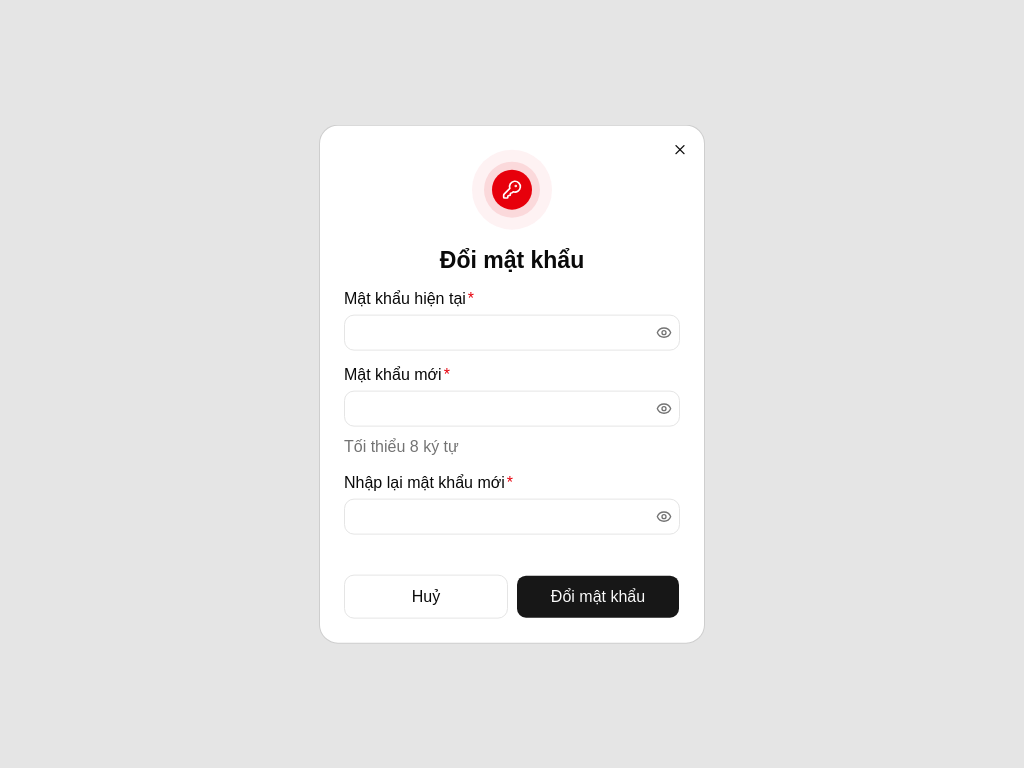
Scenario: ChangePasswordDialog › nhập lại không khớp → báo tại ô, không gọi API
Type "old" into the password field labelled "Mật khẩu hiện tại *" at point(498, 332), box [345, 314, 652, 350]
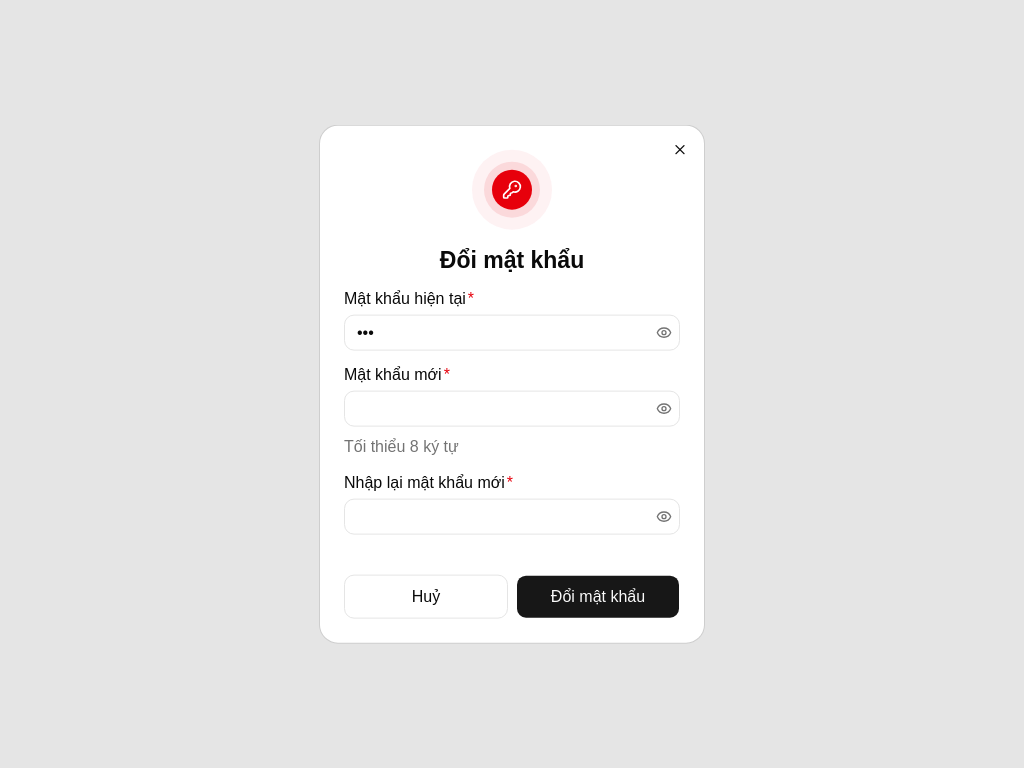
Type "matkhau-1" into the password field labelled "Mật khẩu mới *" at point(498, 408), box [345, 390, 652, 426]
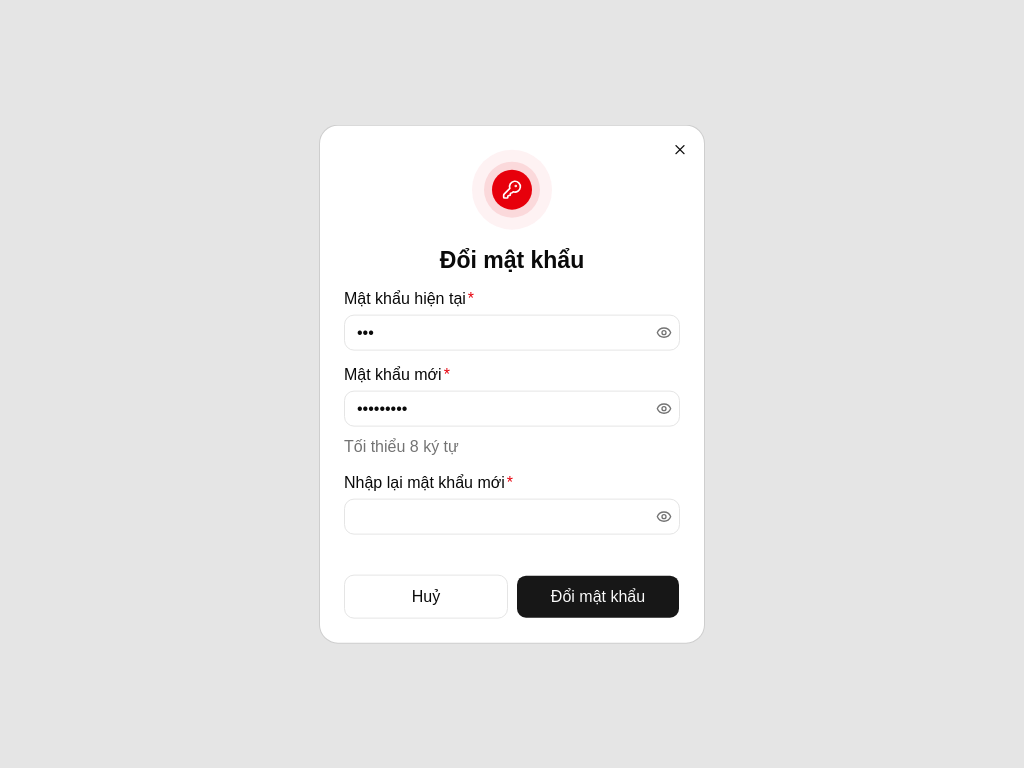
Type "matkhau-2" into the password field labelled "Nhập lại mật khẩu mới *" at point(498, 516), box [345, 498, 652, 534]
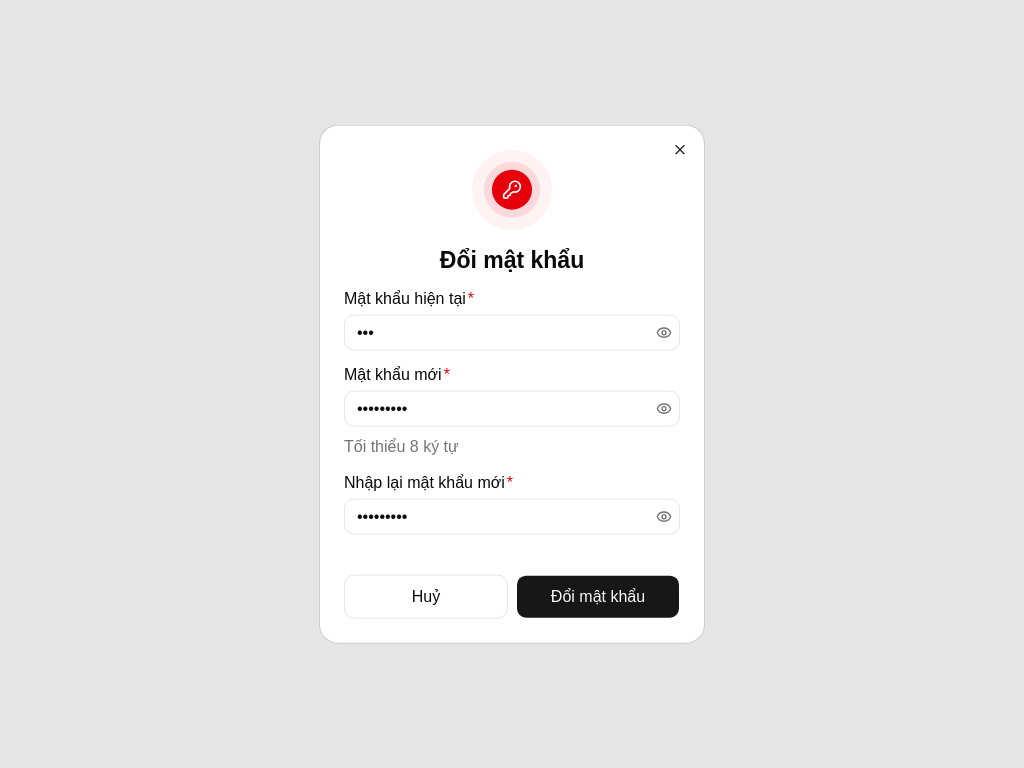
Click the button "Đổi mật khẩu" at point(598, 596), box [516, 574, 680, 618]
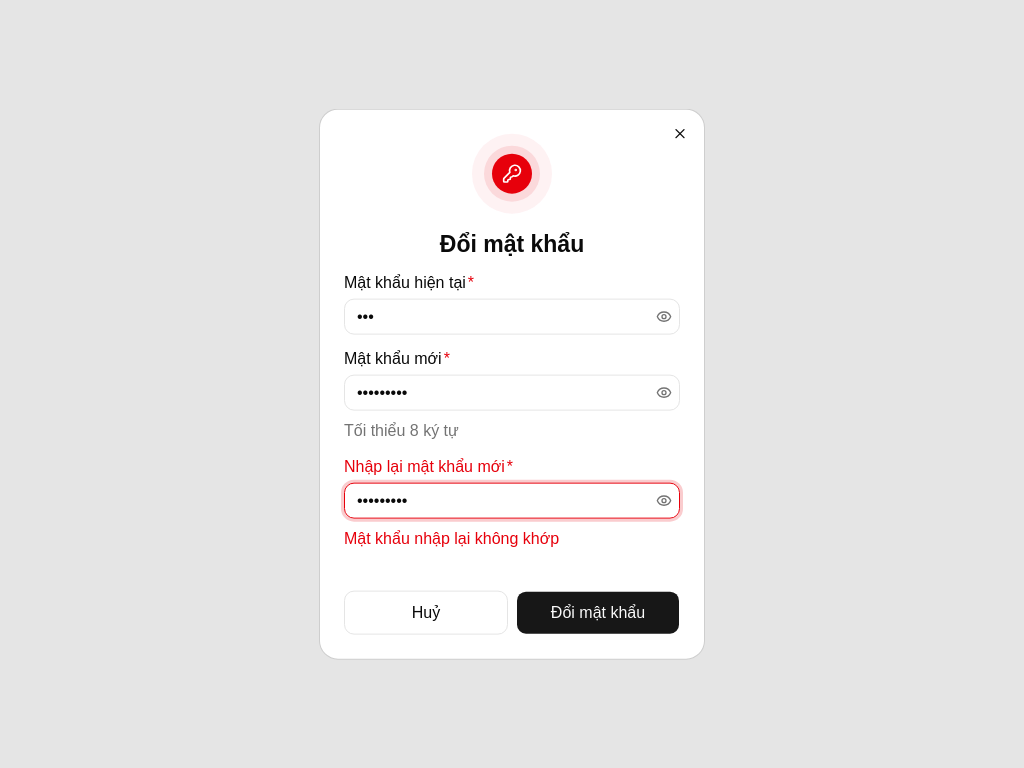
Expected: the text "Mật khẩu nhập lại không khớp" is shown, [344, 529, 559, 546]
